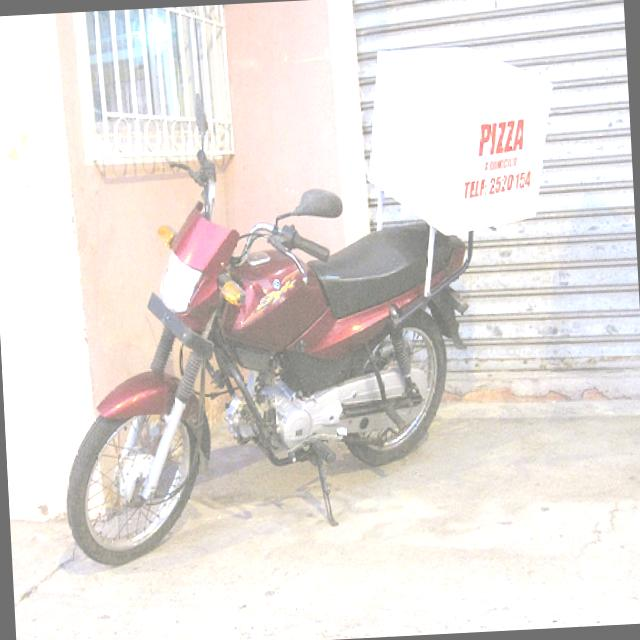Vehicle: (46, 64, 488, 571)
